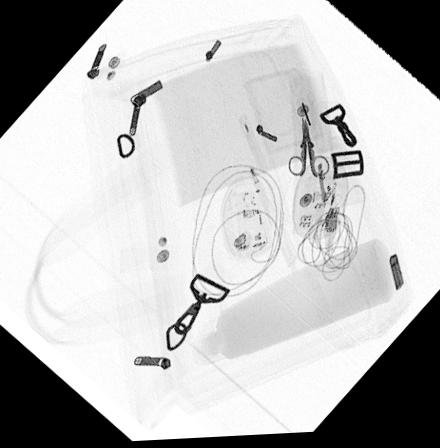Scissors: (286, 120, 330, 184)
